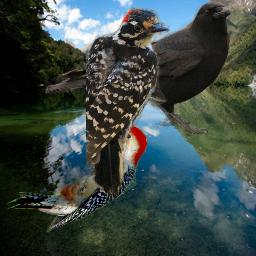Crow: (45, 1, 231, 136)
Woodpecker: (86, 6, 170, 201), (6, 120, 147, 234)
